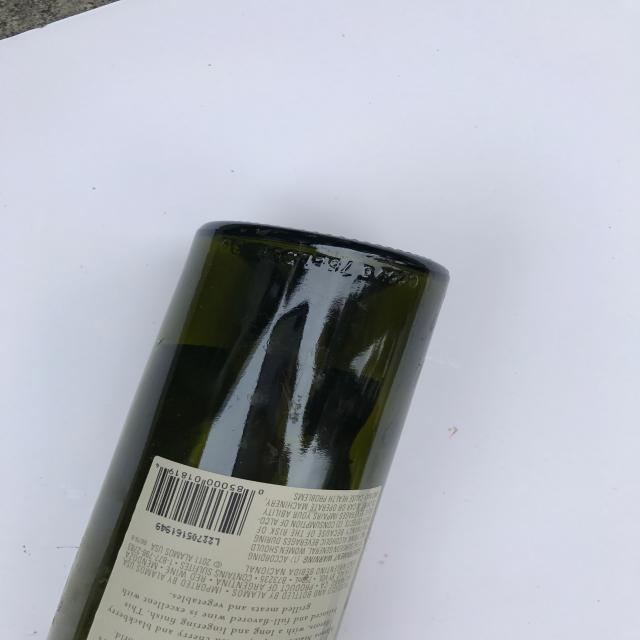glass: (68, 223, 434, 640)
